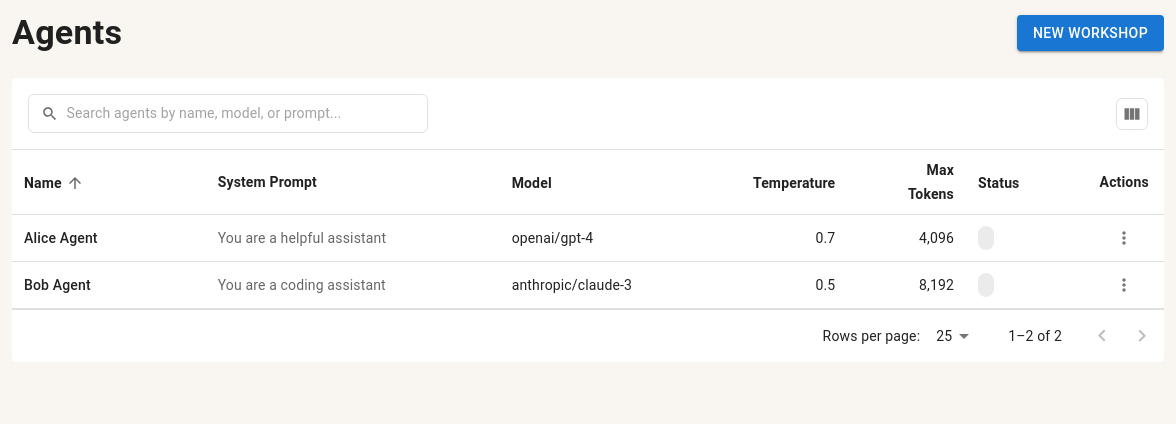
Test: AgentsPage › shows Workshop action in menu
// Open first action menu
Click the button named "Actions for": (1124, 238) [1109, 223, 1139, 253]
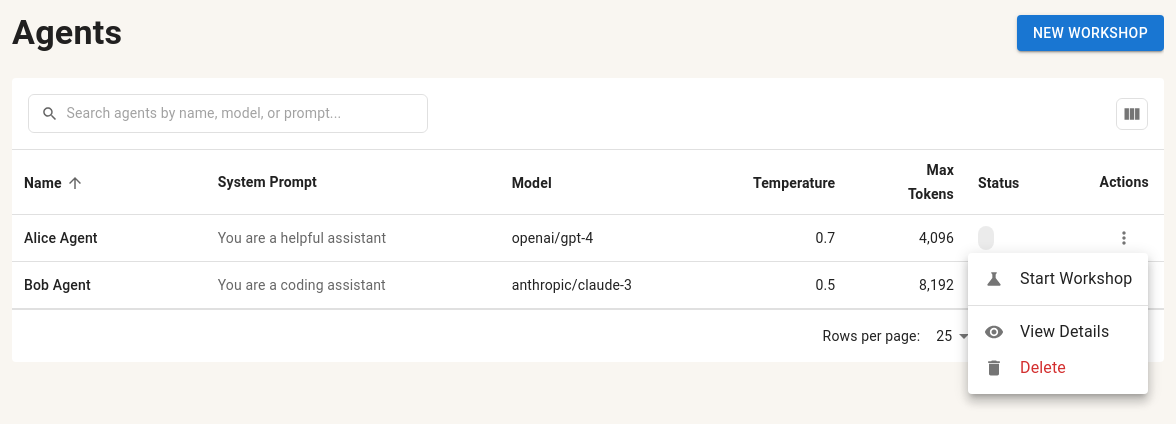
Result: the text "Start Workshop" is shown at [1020, 267, 1132, 291]
